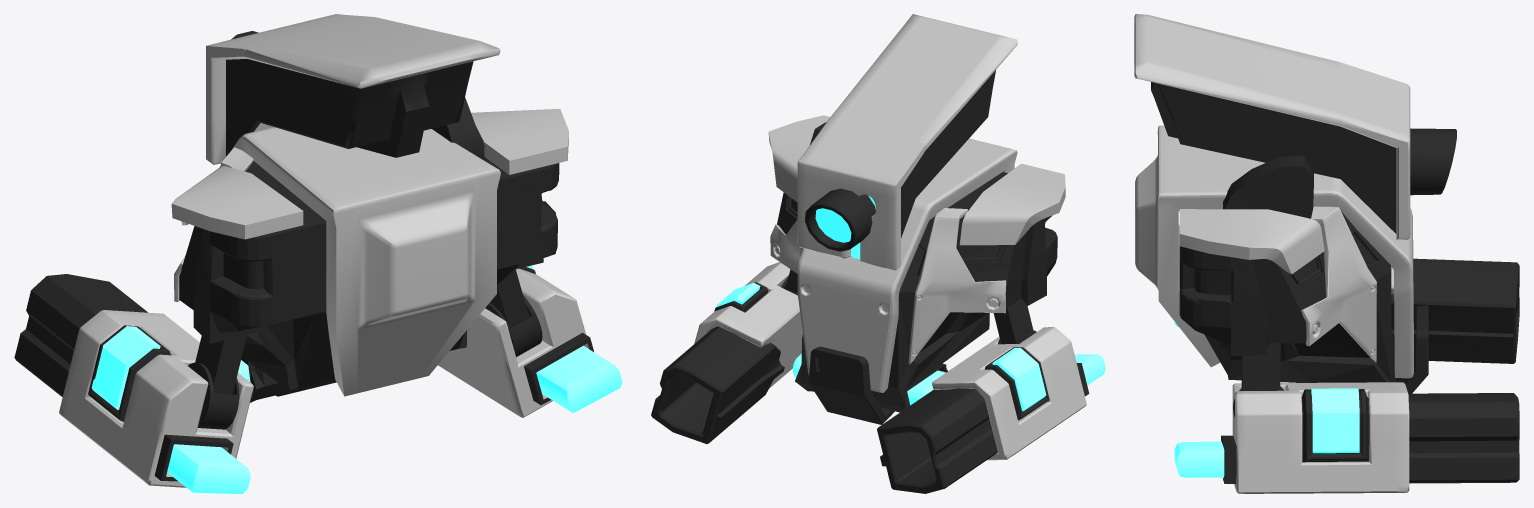
Rendered from Robot1.0.fbx.
3 renders of one model, left to right at view 1: azimuth 30°, elevation 25°; view 2: azimuth 150°, elevation 25°; view 3: azimuth 270°, elevation 25°, orthographic. The views are drawn at different scales.
Visible parts, largest first — view 1: Brustpanzer, Armbase_Links (×2), Kopf, Torso, Schulterpanzer, Kanononenrohrlinks, ArmLinks (×2), Schulter_Stütze, SeitenPanzer; view 2: Kopf, Kanononenrohrlinks (×2), Armbase_Links (×2), Brustpanzer, Torso, Schulterpanzer, SeitenPanzer, Unterpanzer, ArmLinks; view 3: Kopf, Armbase_Links, Kanononenrohrlinks (×2), Torso, Brustpanzer, Schulterpanzer, SeitenPanzer, Schulter_Stütze, ArmLinks, Unterpanzer.
Part boxes in pixels (box(x1,y1,x2,y2)): Brustpanzer: box(219, 127, 500, 396); Armbase_Links (×2): box(59, 265, 622, 493); Kopf: box(206, 14, 500, 164); Torso: box(179, 158, 559, 402); Schulterpanzer: box(171, 108, 568, 239); Kanononenrohrlinks: box(14, 274, 147, 396); ArmLinks (×2): box(188, 269, 542, 429); Schulter_Stütze: box(432, 98, 486, 159); SeitenPanzer: box(174, 147, 253, 302); Kopf: box(797, 14, 1017, 270); Kanononenrohrlinks (×2): box(651, 326, 997, 493); Armbase_Links (×2): box(694, 262, 1105, 460); Brustpanzer: box(797, 138, 1017, 392); Torso: box(777, 172, 1057, 412); Schulterpanzer: box(768, 115, 1065, 245); SeitenPanzer: box(770, 208, 1006, 364); Unterpanzer: box(808, 346, 894, 424); ArmLinks: box(993, 300, 1036, 344); Kopf: box(1134, 14, 1456, 239); Armbase_Links: box(1174, 382, 1409, 493); Kanononenrohrlinks (×2): box(1391, 258, 1519, 483); Torso: box(1179, 211, 1396, 382); Brustpanzer: box(1135, 125, 1413, 378); Schulterpanzer: box(1179, 209, 1324, 274); SeitenPanzer: box(1301, 206, 1376, 362); Schulter_Stütze: box(1223, 155, 1313, 218); ArmLinks: box(1233, 343, 1284, 417); Unterpanzer: box(1396, 305, 1428, 393).
Size of the model in its own units: 8.63 by 8.05 by 7.4.
